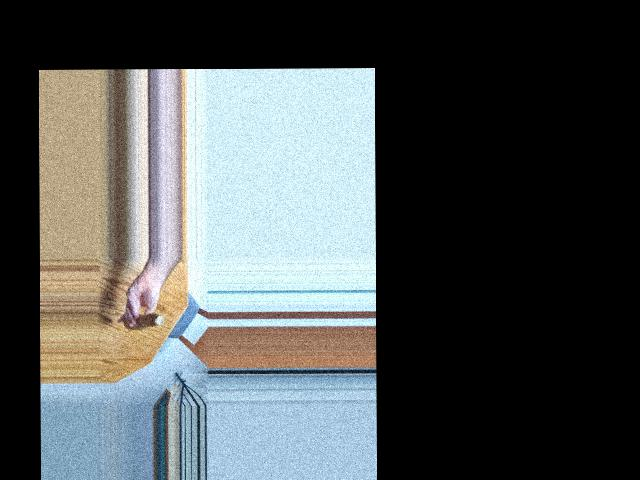sweet_potato: (125, 311, 157, 330)
